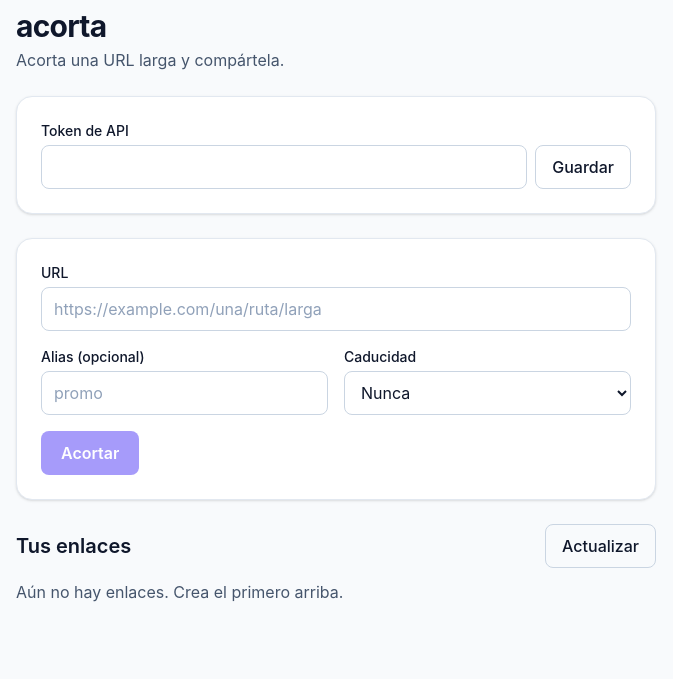
Test: formulario › WEB-06: al editar la caducidad desaparecen los errores
Expected: the label "URL" is shown, [41,264,68,281]
Type "ftp://x" into the field labelled "URL" at x=336, y=309, box [41,287,631,331]
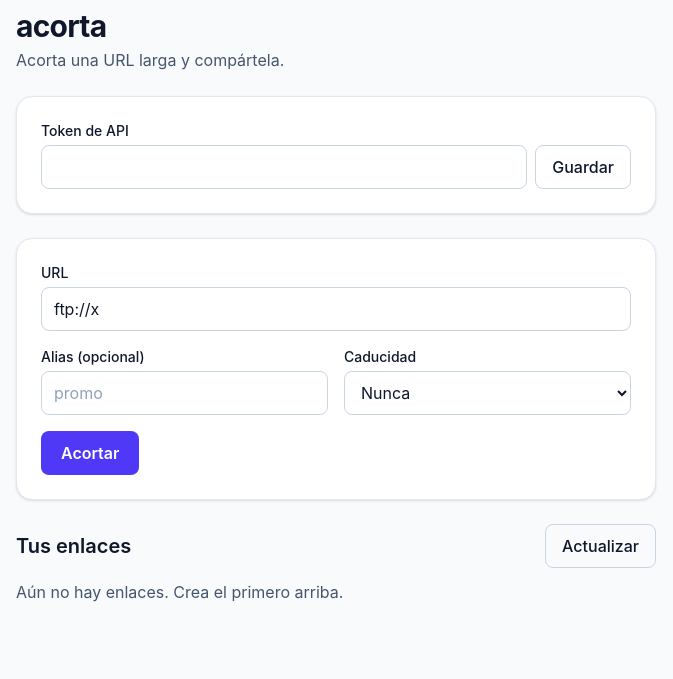
Click the submit button at x=90, y=453, box [41,431,139,475]
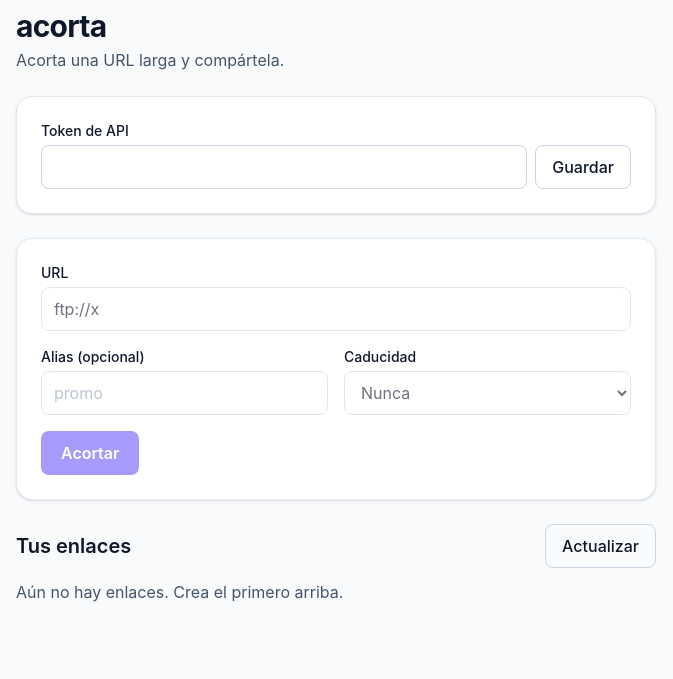
Submit the form, box [41,263,631,475]
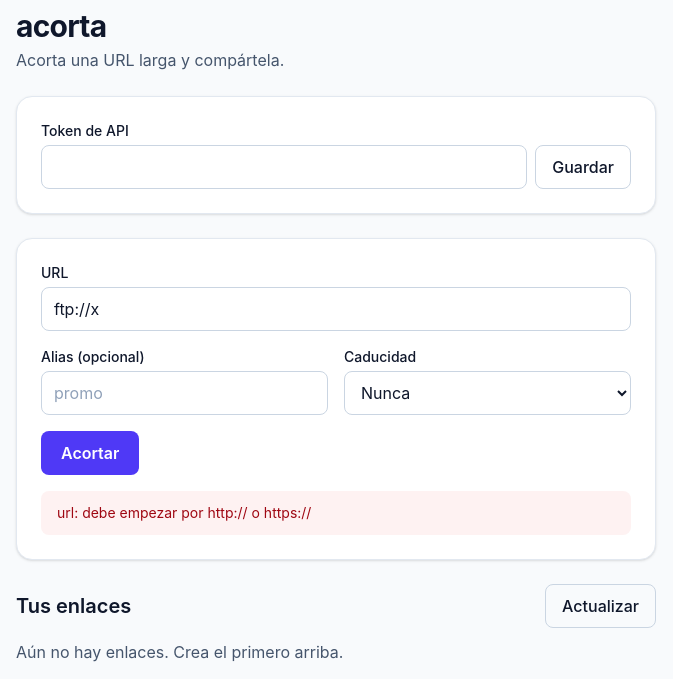
Expected: the label "Caducidad" is shown, [344,348,416,365]
Result: the text "url: debe empezar por http:// o https://" is shown at [57,504,311,521]
Select "1 hora" in the dropdown labelled "Caducidad" at x=488, y=393, box [344,371,631,415]
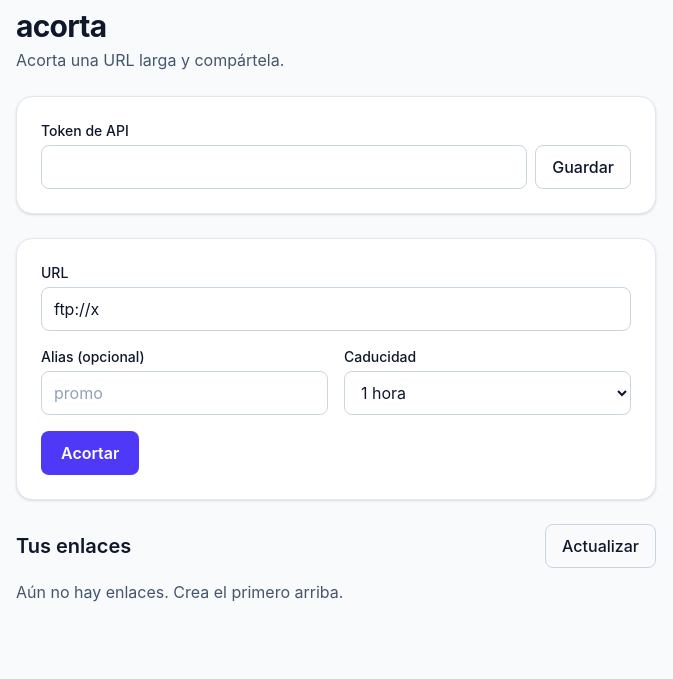
Result: the text "url: debe empezar por http:// o https://" is gone
